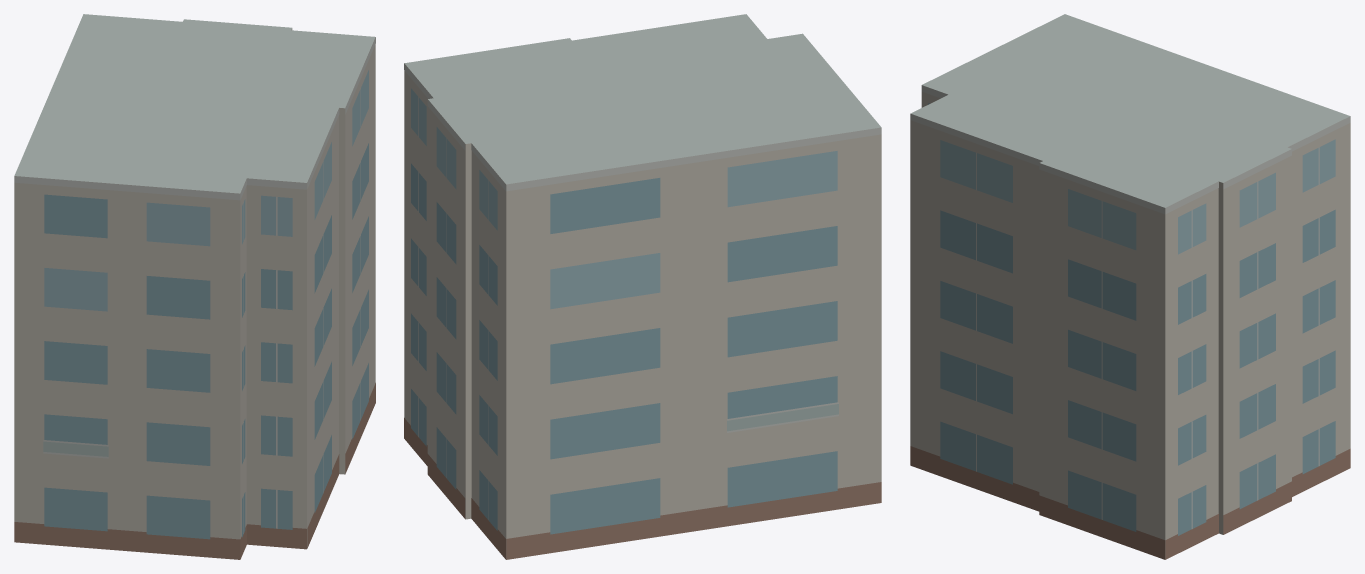
The model's file is survey-upis-32879933.glb.
3 views of the same model, side by side, from view 1: azimuth 30°, elevation 25°; view 2: azimuth 150°, elevation 25°; view 3: azimuth 270°, elevation 25° (orthographic). The views are drawn at different scales.
Visible parts, largest first — view 1: survey-upis-32879933.tmp; view 2: survey-upis-32879933.tmp; view 3: survey-upis-32879933.tmp.
Boxes of the visible parts, <box> form: survey-upis-32879933.tmp: <box>14,14,375,559</box>; survey-upis-32879933.tmp: <box>404,14,881,559</box>; survey-upis-32879933.tmp: <box>910,14,1350,559</box>.
Size of the model in its own units: 15.61 by 13.2 by 14.97.
